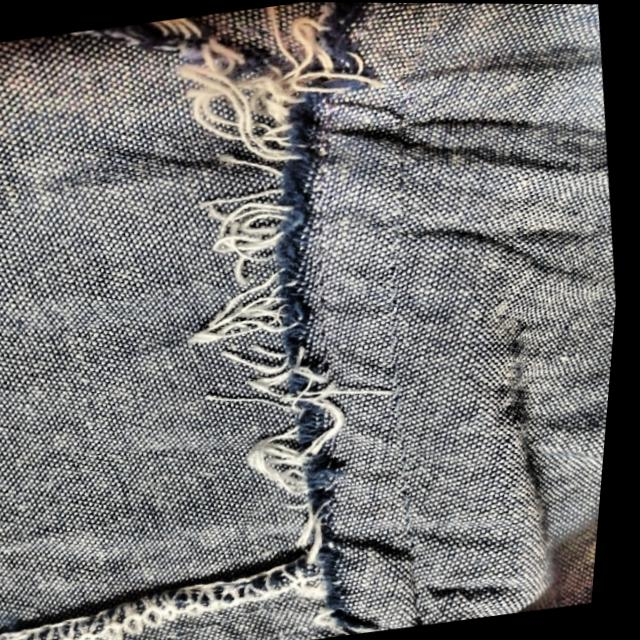Stitch: (131, 1, 436, 572)
